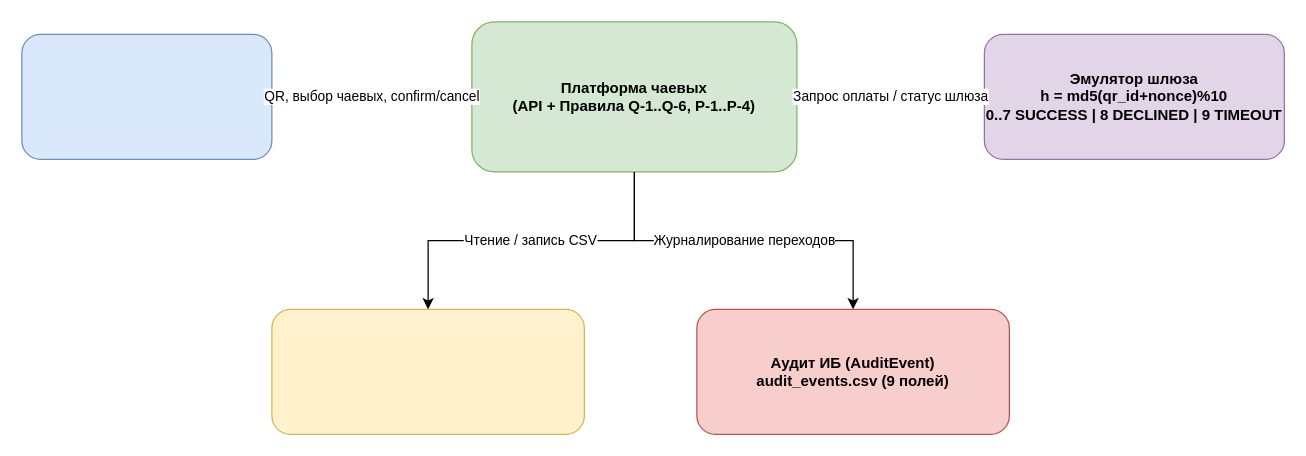
This 1306x456 diagram has some shape labels left out. The shapes that lost their labels are listed below. From the top down, each one's box as (x1, y1, x2, y2) in pixels, then its label:
(21, 33, 272, 159): Клиент (Смартфон) 4 экрана диалога чаевых
(271, 308, 584, 434): Хранилище CSV/БД merchants, employees, qr_links, payments
